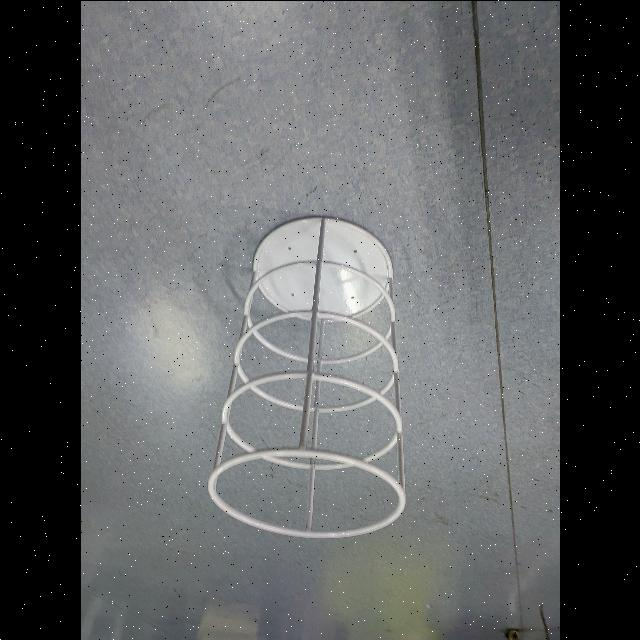S: (205, 210, 413, 542)
